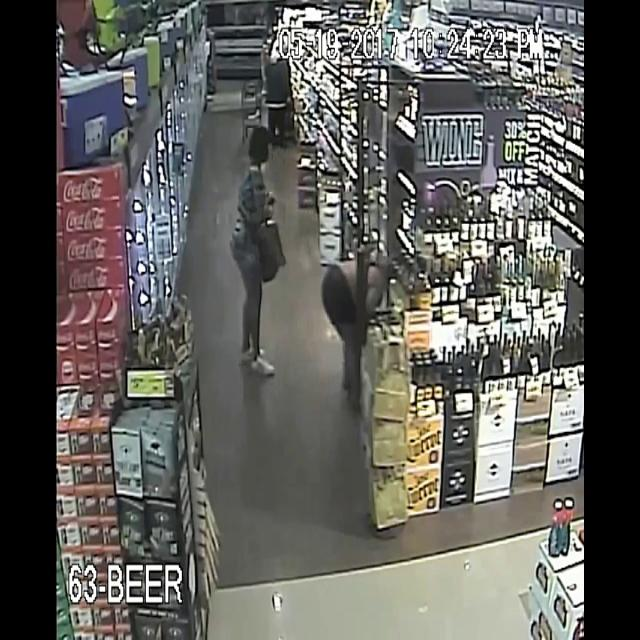normal: (226, 120, 305, 398), (260, 13, 302, 119)
shoplifting: (324, 234, 408, 398)
